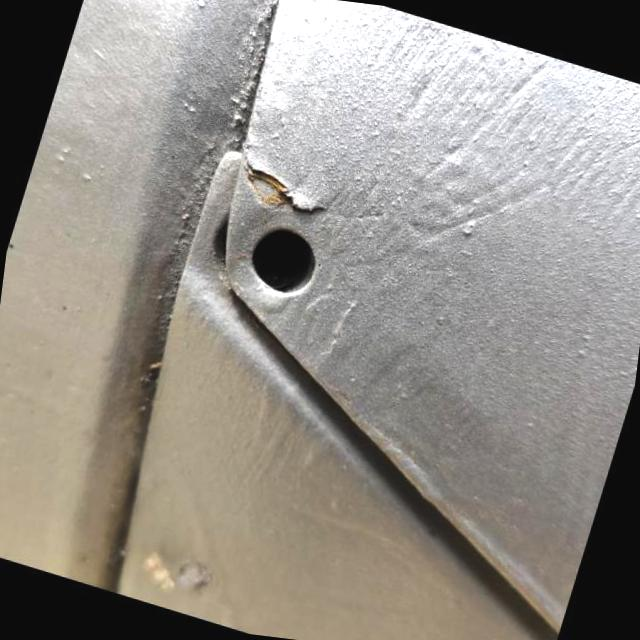Missing Fastener: (250, 226, 320, 294)
